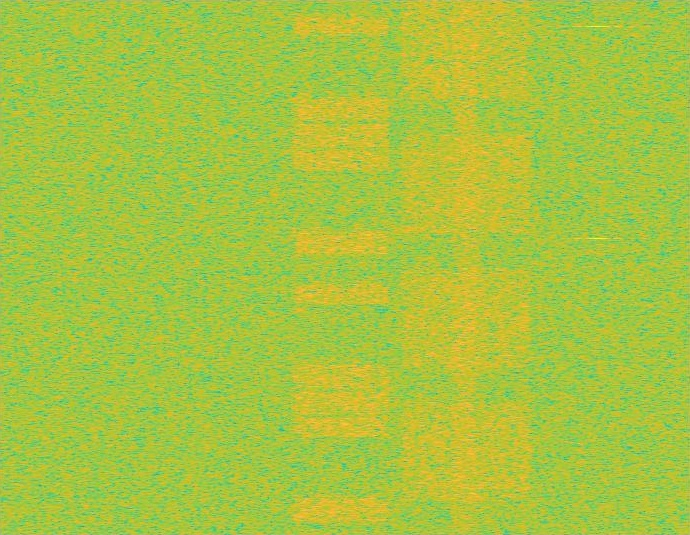5G: (397, 0, 535, 534)
DSSS: (451, 0, 482, 534)
LTE: (289, 0, 393, 534)
Radar: (591, 0, 605, 534)
